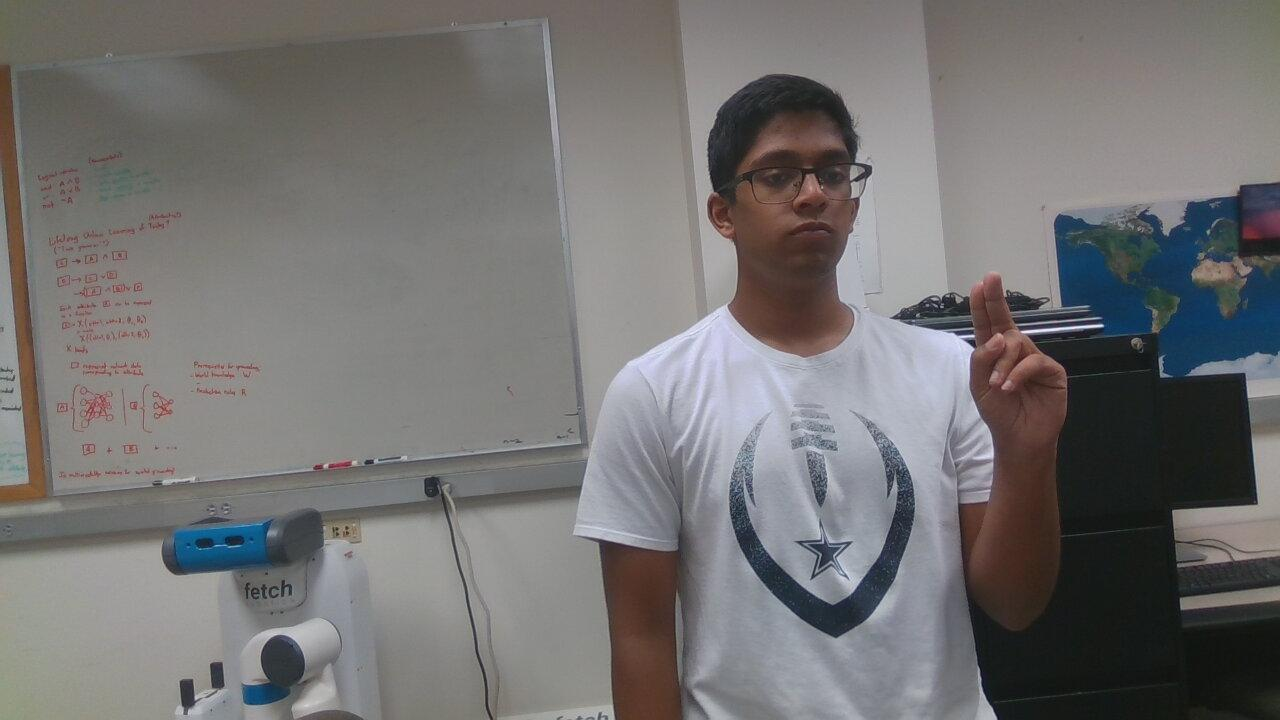hands: (880, 234, 1132, 466)
